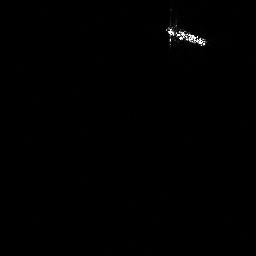ship: (162, 22, 209, 48)
